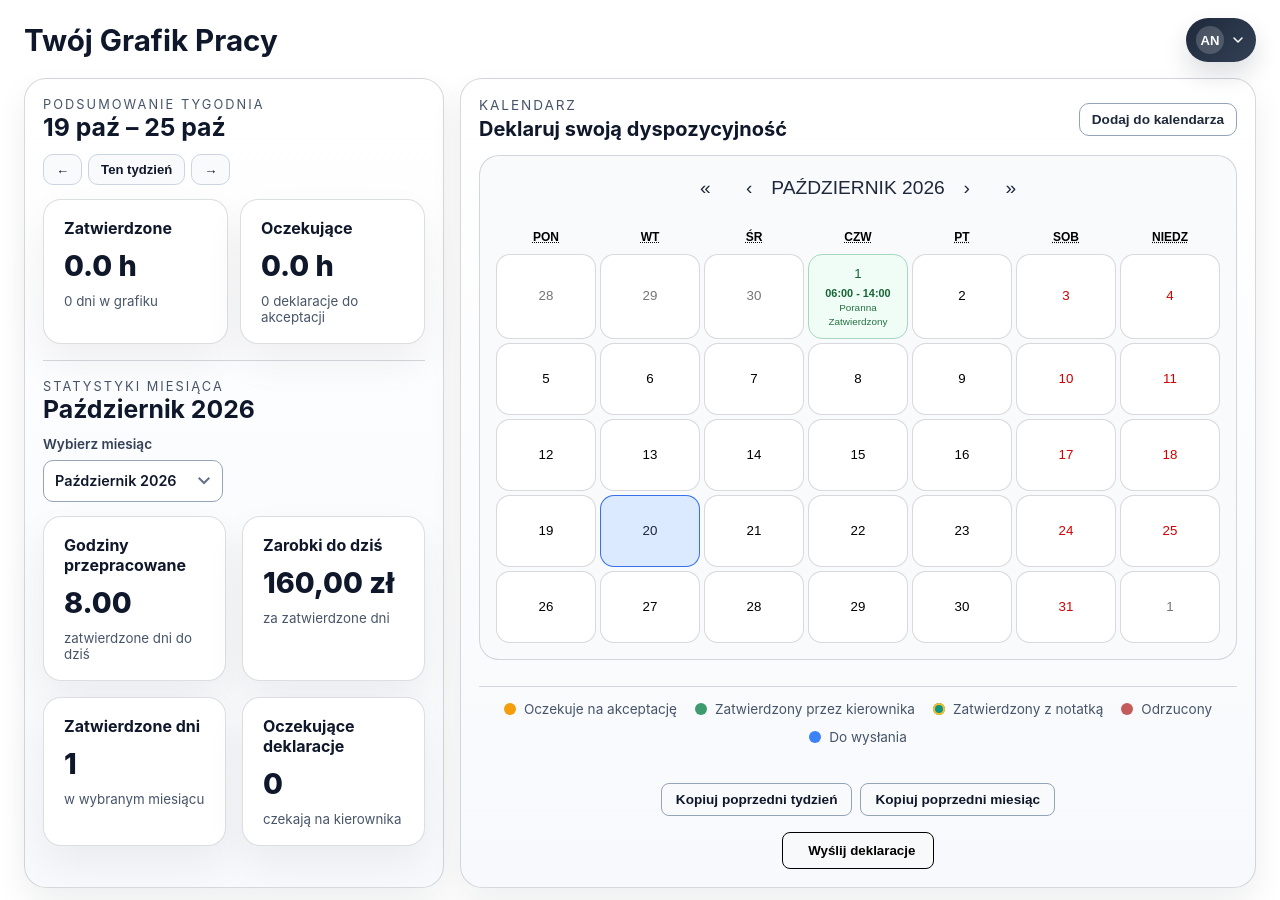
Test case: calendar export: subscription link and .ics download
This screenshot has width=1280, height=900.
Click the button "Dodaj do kalendarza".
click(1158, 119)  # box [1079,102,1237,136]
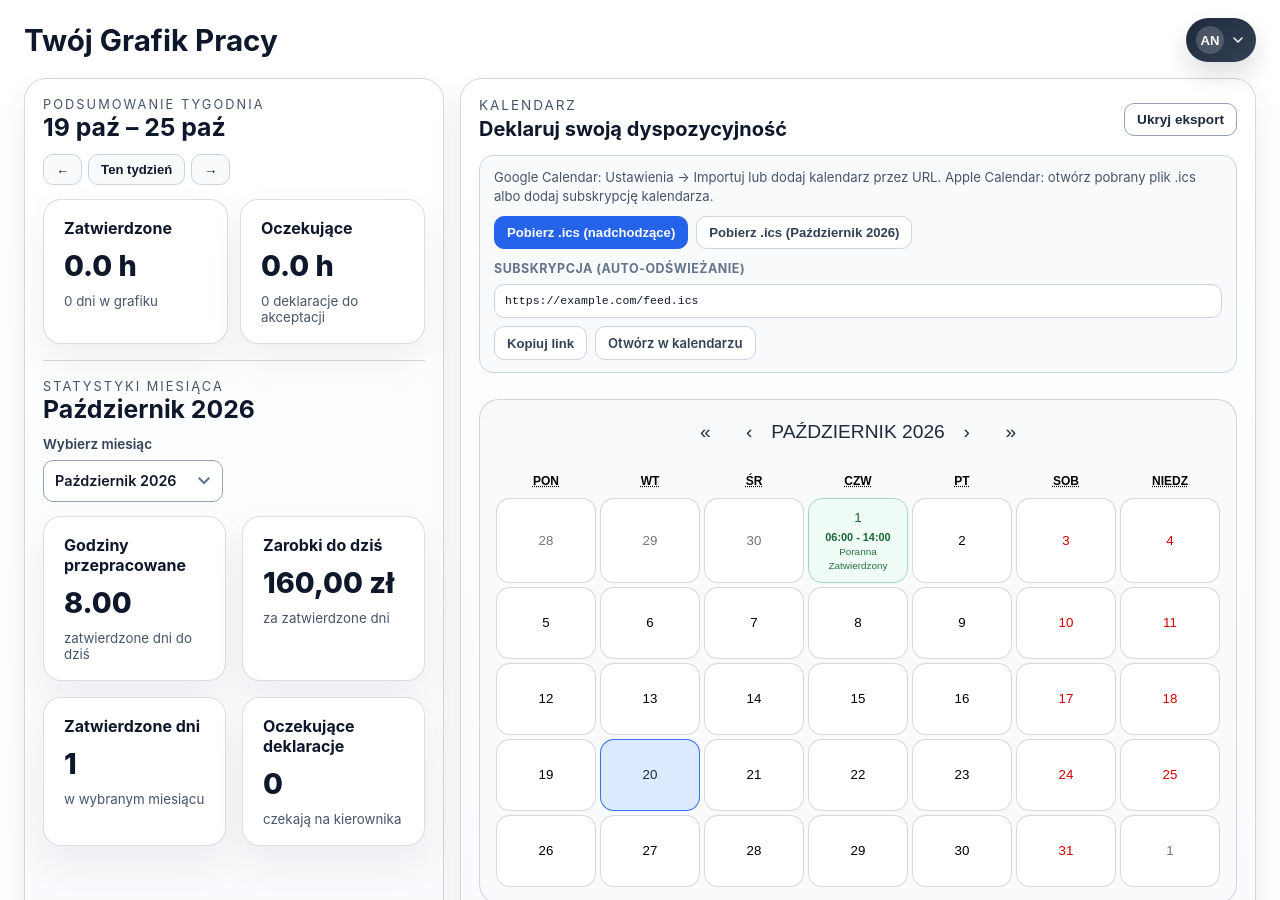
Expected: the text "https://example.com/feed.ics" is shown, [494,284,1222,318]
Click the button "Pobierz .ics (nadchodzące)".
click(591, 233)  # box [494,216,688,249]
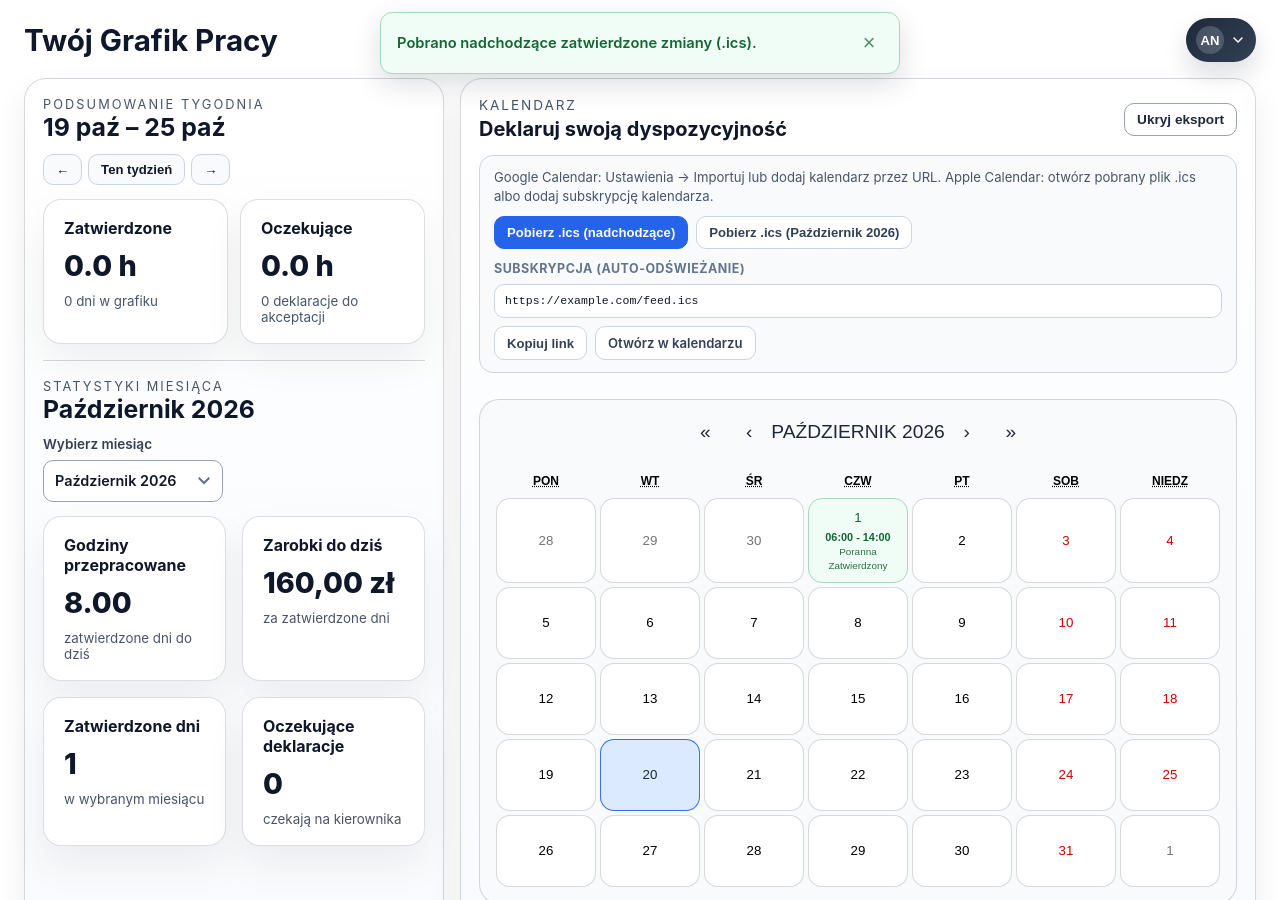
Expected: the text "Pobrano nadchodzące zatwierdzone zmiany (.ics)." is shown, [397,34,757,52]
